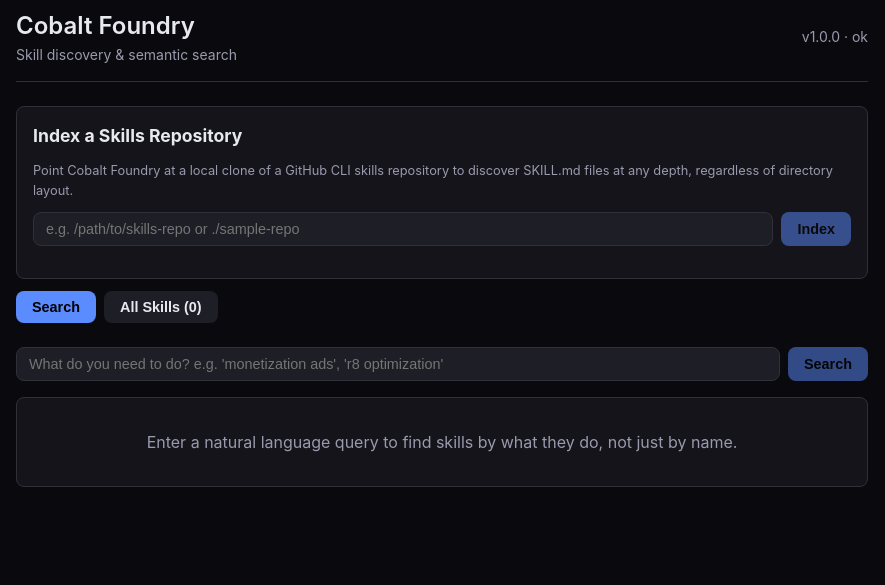
Test: App › search results appear after search
In the field with placeholder "What do you need to do": point(398, 364) [16,347,780,381], type "r8"
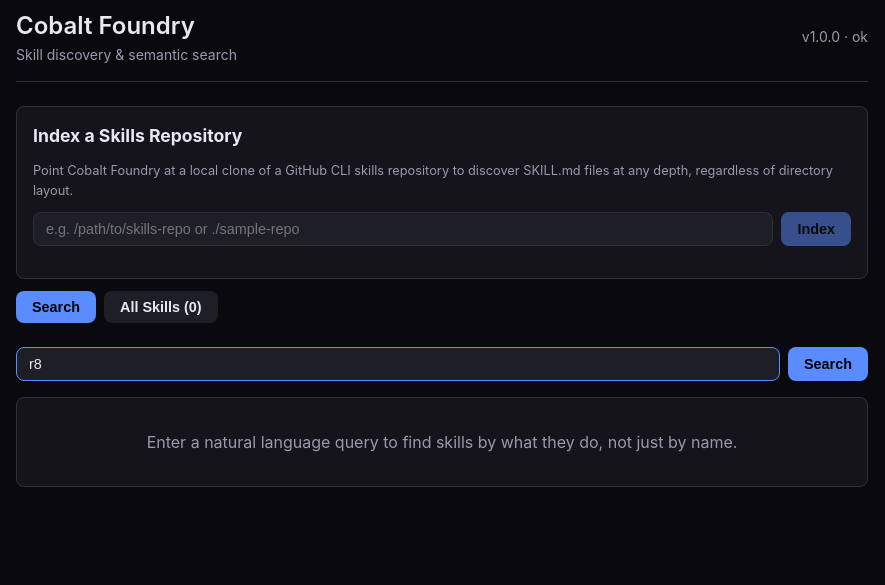
Press Enter
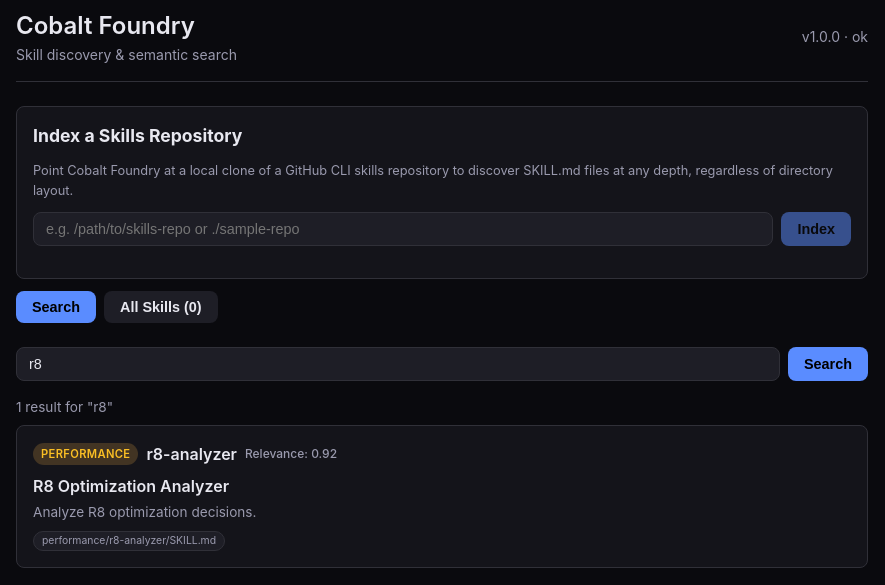
Now the heading "R8 Optimization Analyzer" is shown, box [33,476,229,496]
